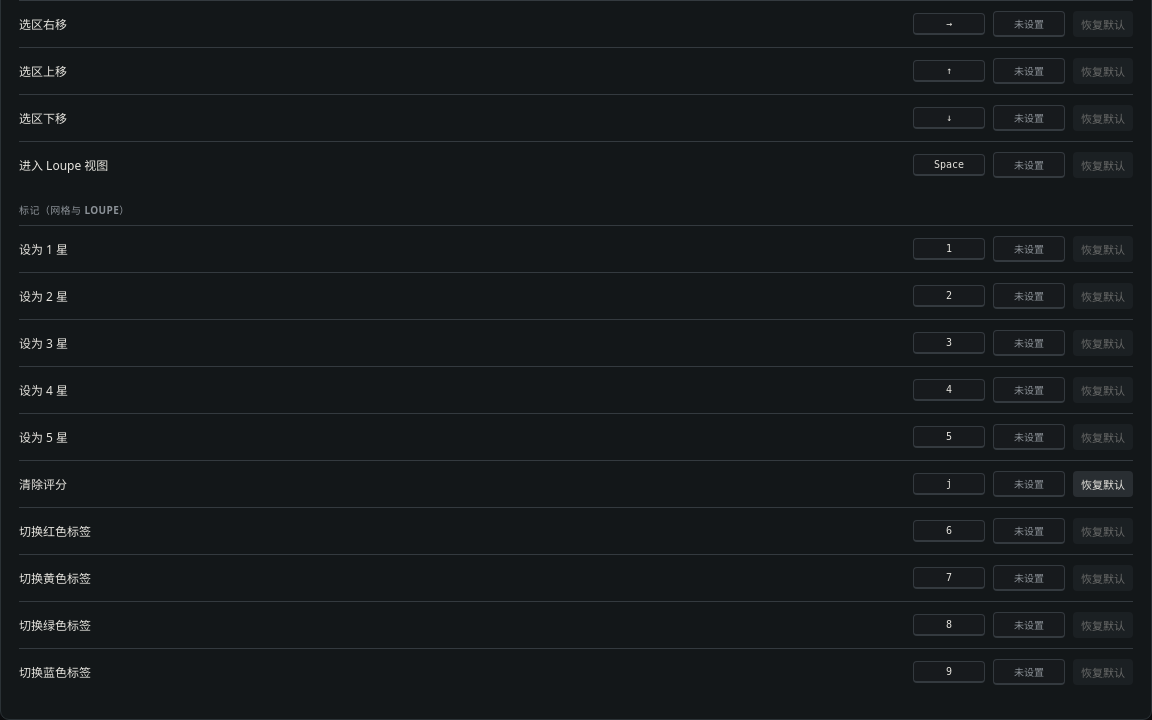
restores one action to its defaults
The image size is (1152, 720).
Click the button "恢复默认" in the row of "清除评分". click: [1103, 484]
box: [1073,471,1133,497]
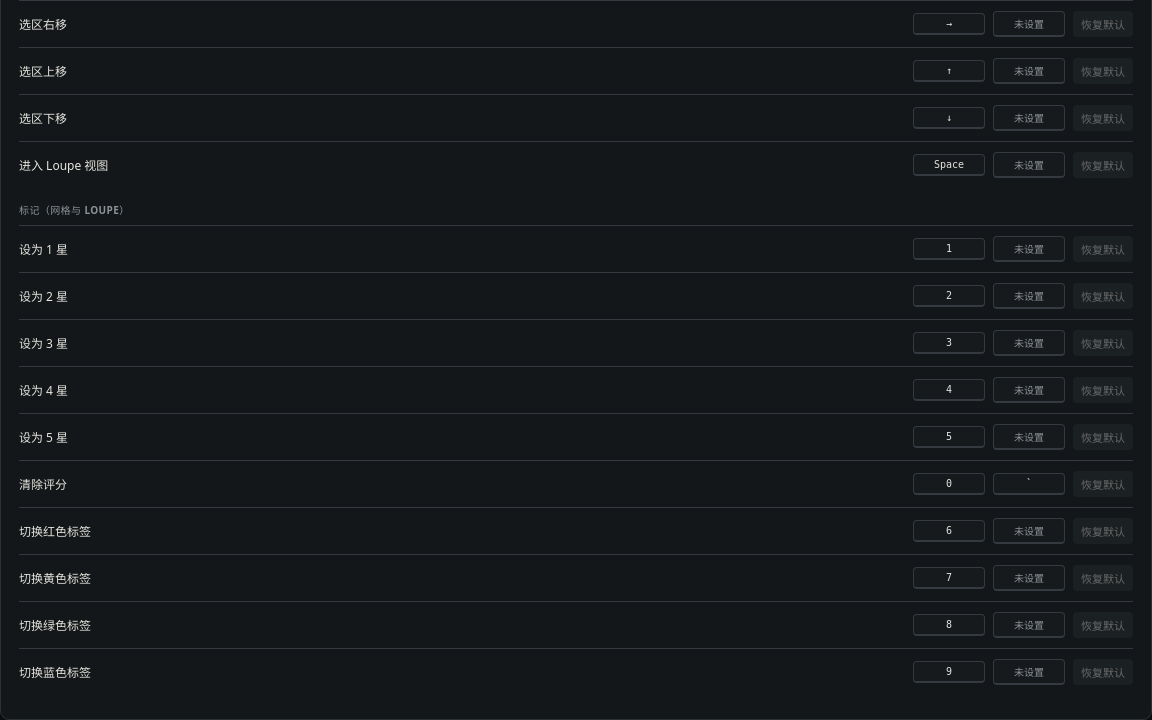
Result: the button "恢复默认" in the row of "清除评分" is disabled at [1073,471,1133,497]
